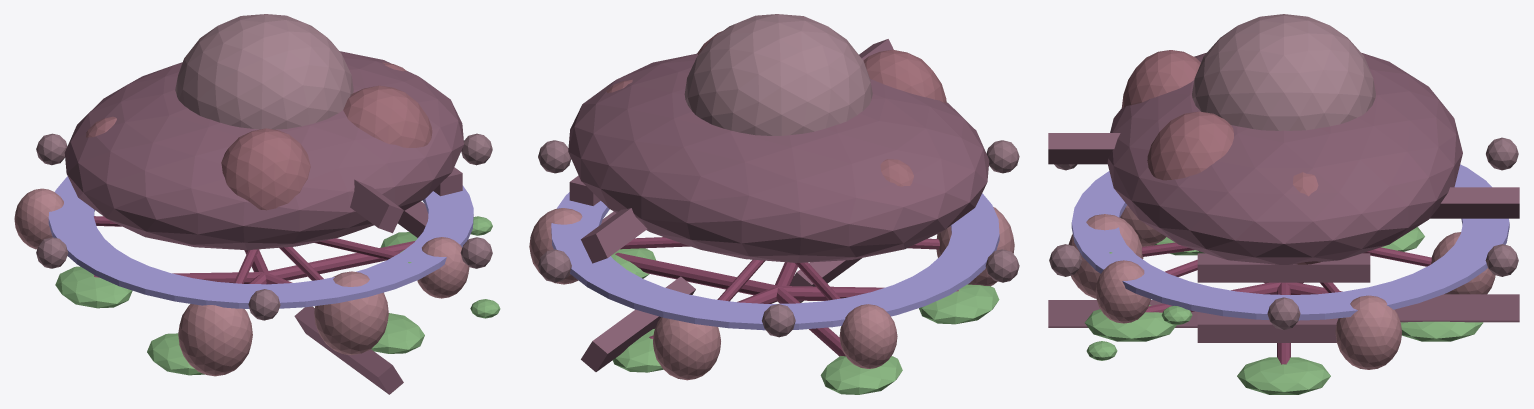
The model's file is zglengo_creep_tumor.glb.
3 renders of one model, left to right at view 1: azimuth 30°, elevation 25°; view 2: azimuth 150°, elevation 25°; view 3: azimuth 270°, elevation 25°, orthographic. The views are drawn at different scales.
Visible parts, largest first — view 1: tumor_base, world, creep_ring, breathe_sac_2, bubo_2, breathe_sac_3, bubo_5, creep_lobe_3, tendril_2, bubo_3, bubo_0, tendril_1 (+14 smaller); view 2: tumor_base, world, creep_ring, bubo_4, bubo_0, breathe_sac_2, tendril_5, creep_lobe_3, creep_lobe_2, creep_tendril_0, tendril_4, bubo_1 (+16 smaller); view 3: tumor_base, world, creep_ring, breathe_sac_3, tendril_0, bubo_1, tendril_3, tendril_5, breathe_sac_2, creep_lobe_0, tendril_4, bubo_3 (+19 smaller).
Boxes of the visible parts, <box> form: tumor_base: <box>64,51,464,250</box>; world: <box>175,14,353,129</box>; creep_ring: <box>48,176,473,308</box>; breathe_sac_2: <box>221,128,310,210</box>; bubo_2: <box>178,304,252,376</box>; breathe_sac_3: <box>343,85,432,147</box>; bubo_5: <box>314,271,388,355</box>; creep_lobe_3: <box>55,266,132,308</box>; tendril_2: <box>294,306,403,394</box>; bubo_3: <box>417,237,469,298</box>; bubo_0: <box>14,188,63,249</box>; tendril_1: <box>350,179,403,233</box>; tumor_base: <box>568,53,989,262</box>; world: <box>684,14,872,135</box>; creep_ring: <box>551,192,999,330</box>; bubo_4: <box>653,317,720,380</box>; bubo_0: <box>839,304,897,368</box>; breathe_sac_2: <box>863,49,946,103</box>; tendril_5: <box>581,276,695,371</box>; creep_lobe_3: <box>820,356,902,394</box>; creep_lobe_2: <box>919,284,999,324</box>; creep_tendril_0: <box>615,252,777,295</box>; tendril_4: <box>581,208,646,263</box>; bubo_1: <box>529,208,582,284</box>; tumor_base: <box>1107,53,1462,264</box>; world: <box>1192,14,1375,130</box>; creep_ring: <box>1071,164,1509,320</box>; breathe_sac_3: <box>1147,111,1233,180</box>; tendril_0: <box>1197,253,1370,282</box>; bubo_1: <box>1335,295,1401,369</box>; tendril_3: <box>1197,313,1338,342</box>; tendril_5: <box>1394,294,1519,322</box>; breathe_sac_2: <box>1121,50,1200,108</box>; creep_lobe_0: <box>1237,357,1330,394</box>; tendril_4: <box>1430,187,1519,218</box>; bubo_3: <box>1095,260,1150,323</box>.
Size of the model in its own units: 1.62 by 0.9968 by 1.42.
